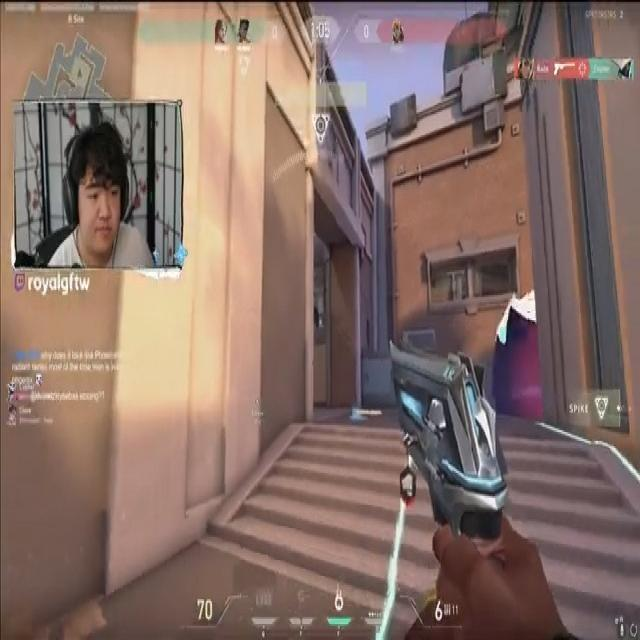gun: (353, 396, 384, 425)
